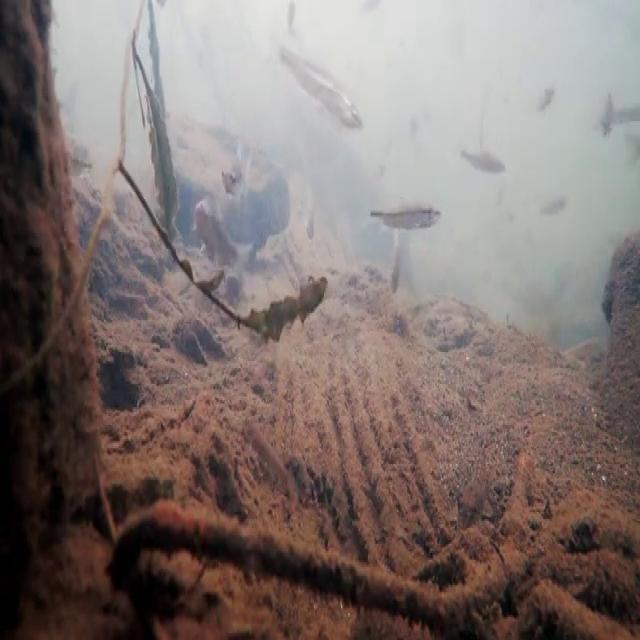Cakil Baligi: (282, 42, 361, 130), (368, 188, 442, 238), (460, 141, 507, 179), (385, 229, 404, 294), (539, 194, 567, 220)
